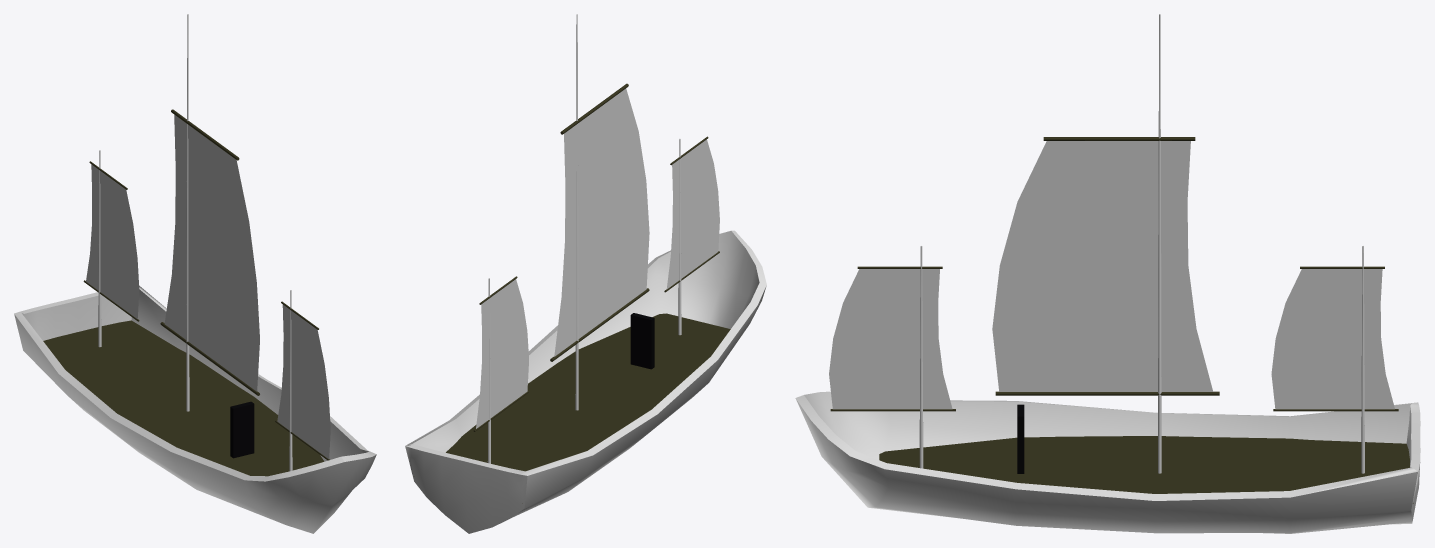
File: Boat_Cutscene.FBX
3 views of the same model, side by side, from view 1: azimuth 30°, elevation 25°; view 2: azimuth 150°, elevation 25°; view 3: azimuth 270°, elevation 25° (orthographic). The views are drawn at different scales.
Parts seen in each view (by area): view 1: Plane001, Plane004, Plane006, Plane008, Plane007, Box001, Cylinder001, Cylinder002, Cylinder003; view 2: Plane001, Plane004, Plane006, Plane008, Plane007, Box001, Cylinder001, Cylinder003; view 3: Plane001, Plane006, Plane004, Plane008, Plane007, Cylinder001, Cylinder004, Cylinder003, Cylinder002.
Boxes of the visible parts, <box> form: Plane001: <box>14,285,376,533</box>; Plane004: <box>43,320,324,476</box>; Plane006: <box>164,115,259,391</box>; Plane008: <box>277,304,330,458</box>; Plane007: <box>86,164,139,318</box>; Box001: <box>230,401,254,458</box>; Cylinder001: <box>186,14,189,411</box>; Cylinder002: <box>98,150,101,347</box>; Cylinder003: <box>289,290,292,471</box>; Plane001: <box>405,230,766,533</box>; Plane004: <box>413,313,730,503</box>; Plane006: <box>554,88,649,356</box>; Plane008: <box>666,139,719,289</box>; Plane007: <box>476,279,528,428</box>; Box001: <box>630,313,654,369</box>; Cylinder001: <box>575,14,578,410</box>; Cylinder003: <box>678,138,681,335</box>; Plane001: <box>795,391,1420,533</box>; Plane006: <box>992,141,1213,391</box>; Plane004: <box>879,436,1413,503</box>; Plane008: <box>829,269,952,409</box>; Plane007: <box>1271,269,1394,409</box>; Cylinder001: <box>1158,14,1161,473</box>; Cylinder004: <box>995,391,1219,395</box>; Cylinder003: <box>919,246,923,468</box>; Cylinder002: <box>1361,246,1364,473</box>.
Bounding box in the file's own units: 354 × 958 × 1058.
